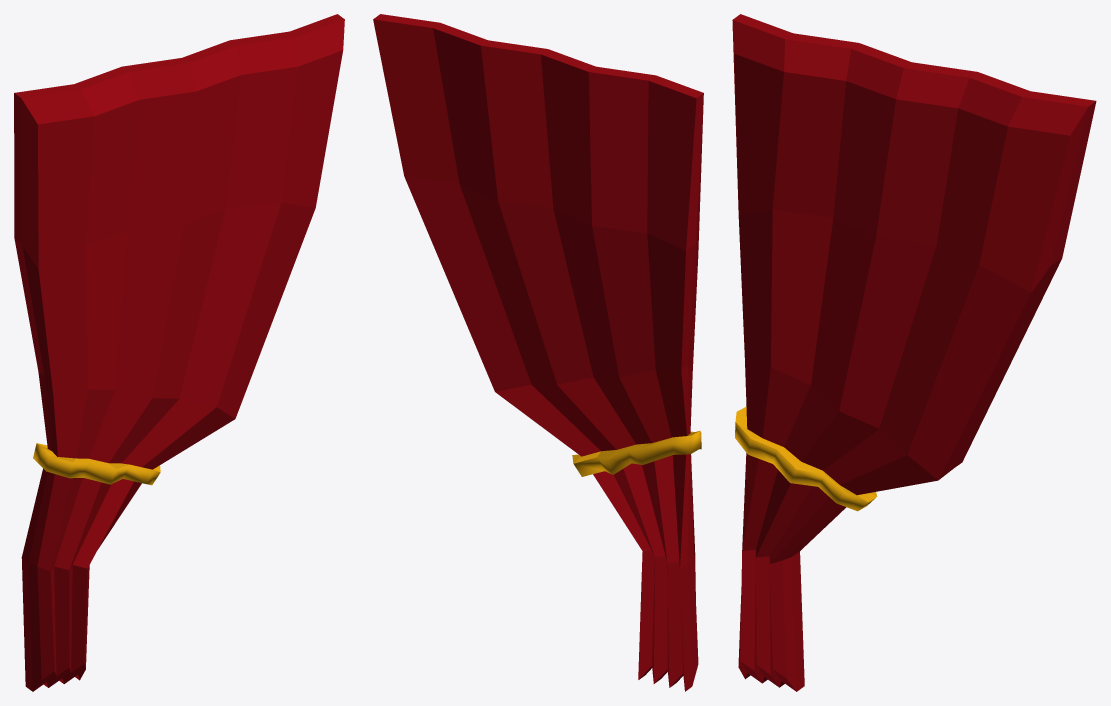
The model's file is CURTAIN2.fbx.
The picture shows the model from 3 angles, left to right: view 1: azimuth 30°, elevation 25°; view 2: azimuth 150°, elevation 25°; view 3: azimuth 330°, elevation 25°; orthographic projection. The views are drawn at different scales.
Visible parts, largest first — view 1: Cube; view 2: Cube; view 3: Cube.
Boxes of the visible parts, bbox=[...] form: Cube: bbox=[14, 14, 344, 691]; Cube: bbox=[373, 14, 703, 691]; Cube: bbox=[732, 14, 1096, 691].
Size of the model in its own units: 2549 by 4491 by 421.
